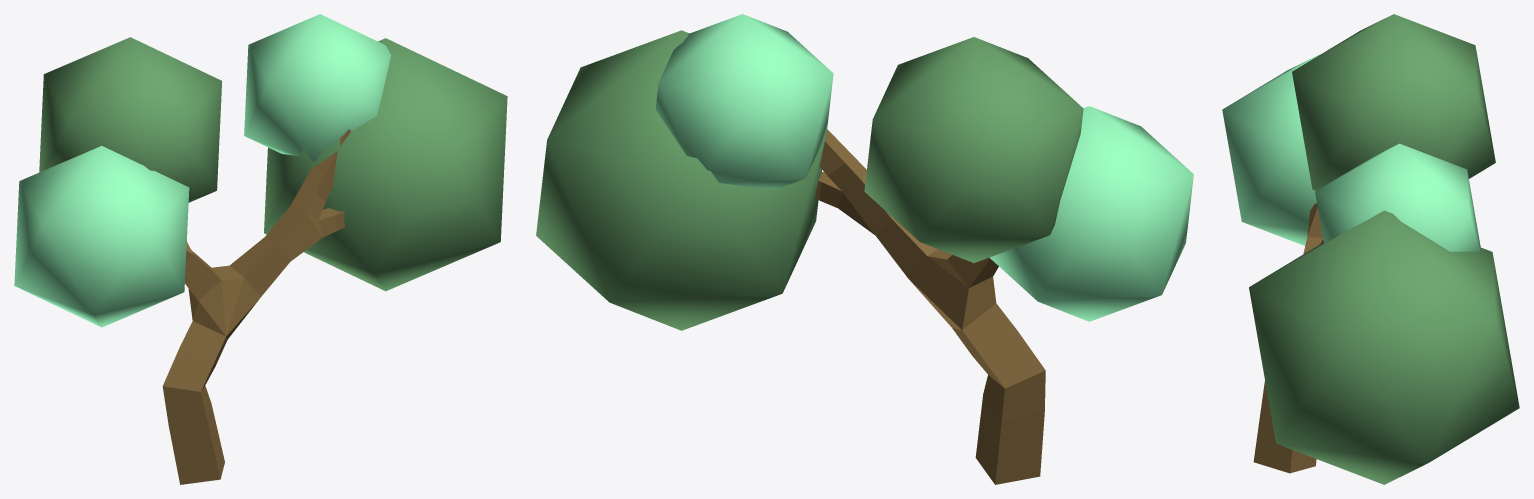
The model's file is treegreen.glb.
3 renders of one model, left to right at view 1: azimuth 30°, elevation 25°; view 2: azimuth 150°, elevation 25°; view 3: azimuth 270°, elevation 25°, orthographic. The views are drawn at different scales.
Visible parts, largest first — view 1: ทรงกลม Ico.003, ทรงกลม Ico, ทรงกลม Ico.001, Cube, ทรงกลม Ico.002; view 2: ทรงกลม Ico.003, ทรงกลม Ico.001, ทรงกลม Ico, ทรงกลม Ico.002, Cube; view 3: ทรงกลม Ico.003, ทรงกลม Ico.001, ทรงกลม Ico.002, ทรงกลม Ico, Cube.
Boxes of the visible parts, x1=… form: ทรงกลม Ico.003: x1=264, y1=38, x2=507, y2=291; ทรงกลม Ico: x1=14, y1=146, x2=189, y2=327; ทรงกลม Ico.001: x1=39, y1=37, x2=222, y2=202; Cube: x1=162, y1=129, x2=350, y2=484; ทรงกลม Ico.002: x1=244, y1=14, x2=391, y2=161; ทรงกลม Ico.003: x1=536, y1=30, x2=826, y2=330; ทรงกลม Ico.001: x1=864, y1=37, x2=1083, y2=262; ทรงกลม Ico: x1=989, y1=106, x2=1193, y2=321; ทรงกลม Ico.002: x1=655, y1=14, x2=833, y2=189; Cube: x1=815, y1=129, x2=1045, y2=484; ทรงกลม Ico.003: x1=1249, y1=210, x2=1519, y2=484; ทรงกลม Ico.001: x1=1292, y1=14, x2=1495, y2=190; ทรงกลม Ico.002: x1=1315, y1=143, x2=1480, y2=251; ทรงกลม Ico: x1=1222, y1=54, x2=1319, y2=245; Cube: x1=1253, y1=203, x2=1323, y2=473.
Bounding box in the file's own units: 5.8 × 4.61 × 2.81.
